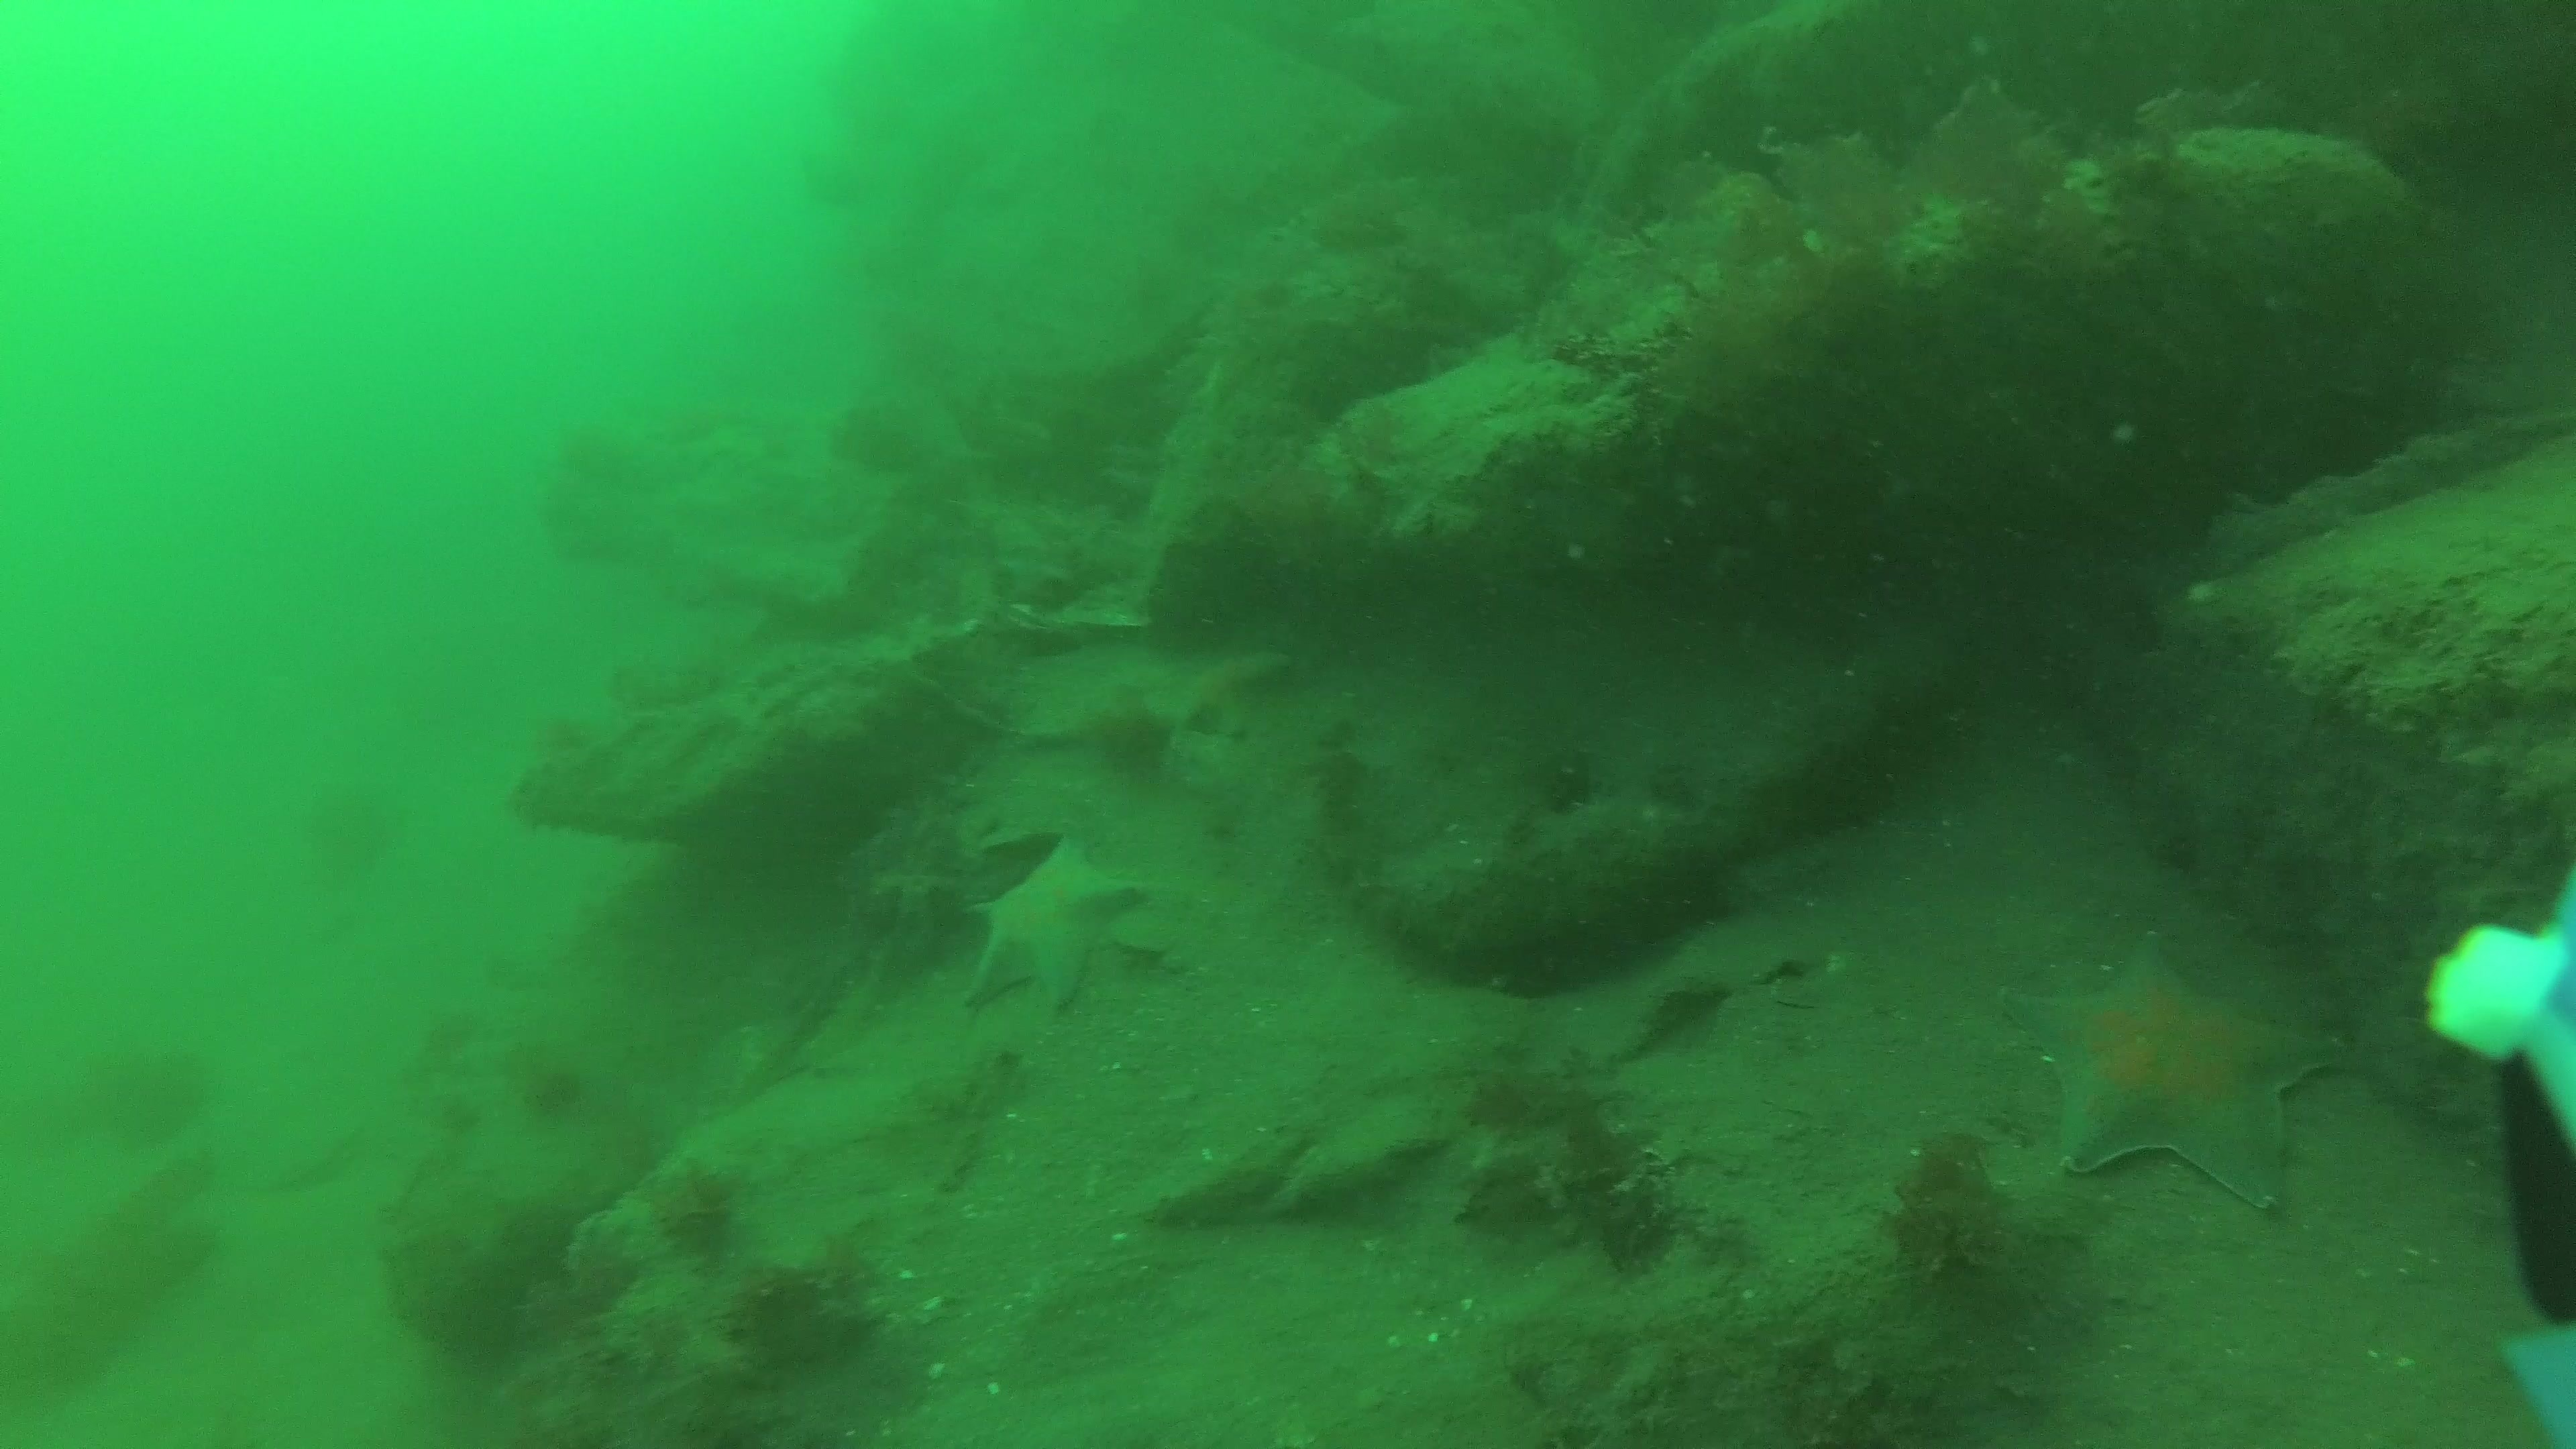starfish: (2001, 927, 2350, 1214), (970, 846, 1143, 1008)
